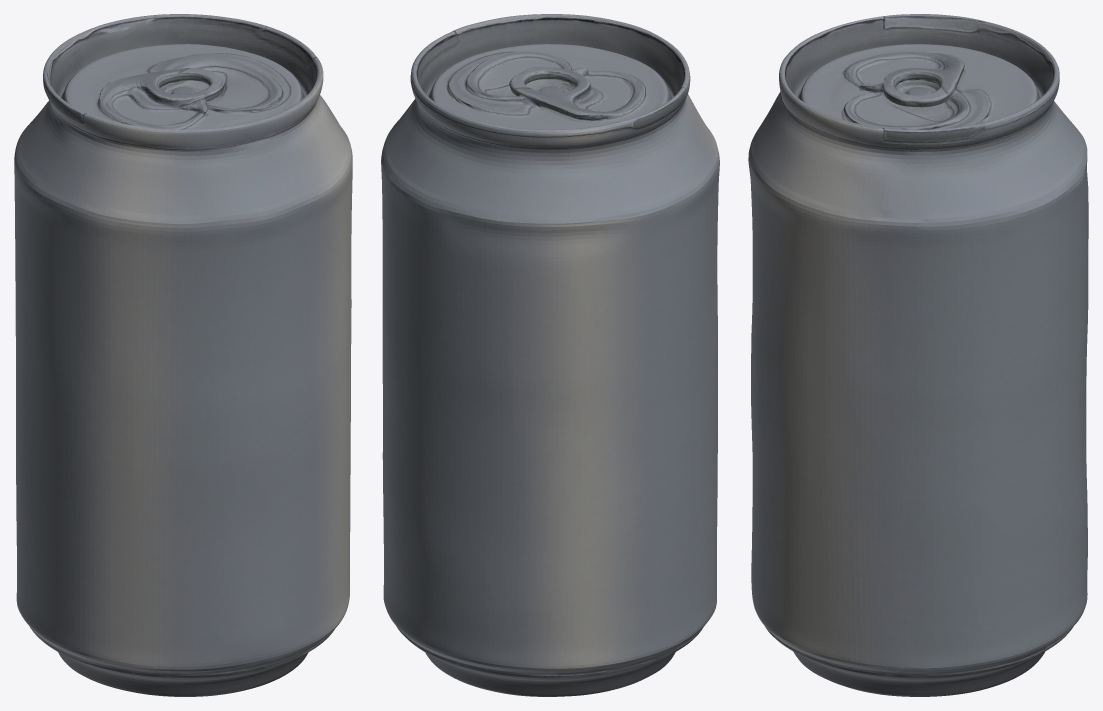
The model's file is can.glb.
3 views of the same model, side by side, from view 1: azimuth 30°, elevation 25°; view 2: azimuth 150°, elevation 25°; view 3: azimuth 270°, elevation 25° (orthographic).
Parts seen in each view (by area): view 1: tripo_node_9289aa91-8bdc-46d0-990b-f69749b10729; view 2: tripo_node_9289aa91-8bdc-46d0-990b-f69749b10729; view 3: tripo_node_9289aa91-8bdc-46d0-990b-f69749b10729.
Part boxes in pixels (x1,y1,x2,y2): tripo_node_9289aa91-8bdc-46d0-990b-f69749b10729: (14, 14, 352, 696); tripo_node_9289aa91-8bdc-46d0-990b-f69749b10729: (381, 14, 719, 696); tripo_node_9289aa91-8bdc-46d0-990b-f69749b10729: (748, 14, 1088, 696).
Size of the model in its own units: 0.5264 by 0.9793 by 0.5271.
Materials: 1 (1 with a texture image).
